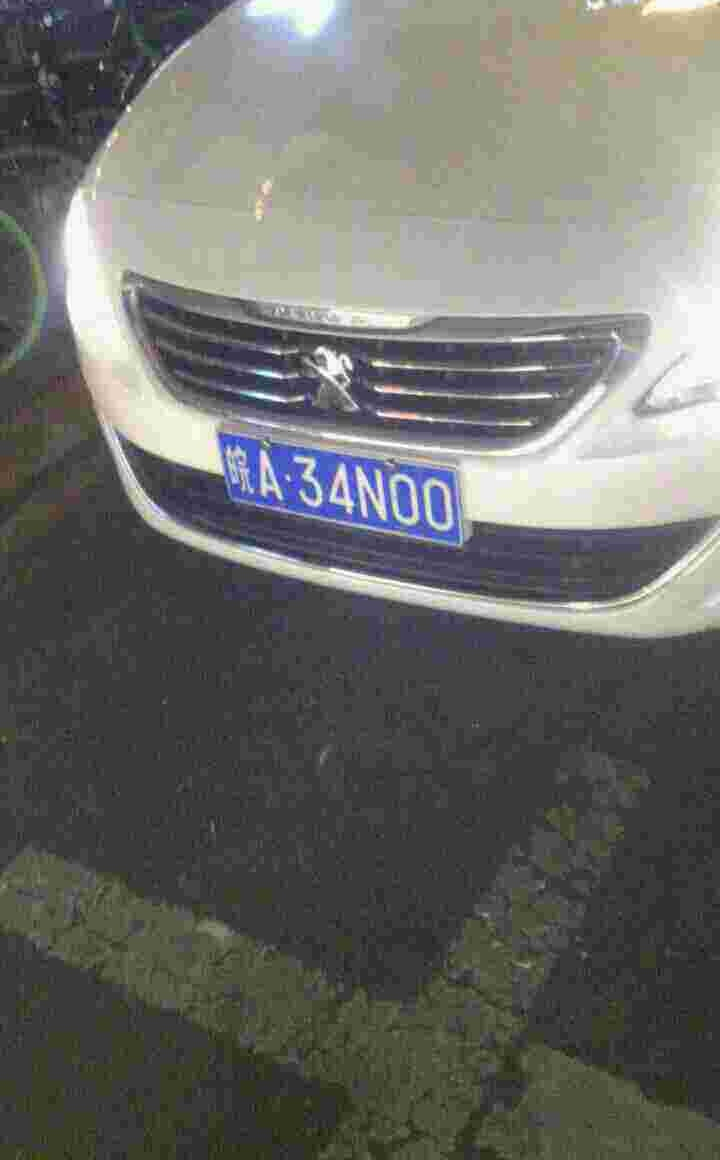license_plate: (224, 435, 458, 544)
